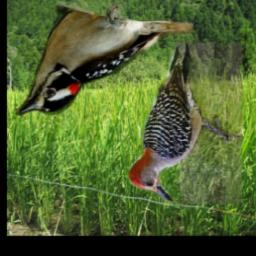Woodpecker: (17, 2, 194, 121), (121, 42, 243, 204)
